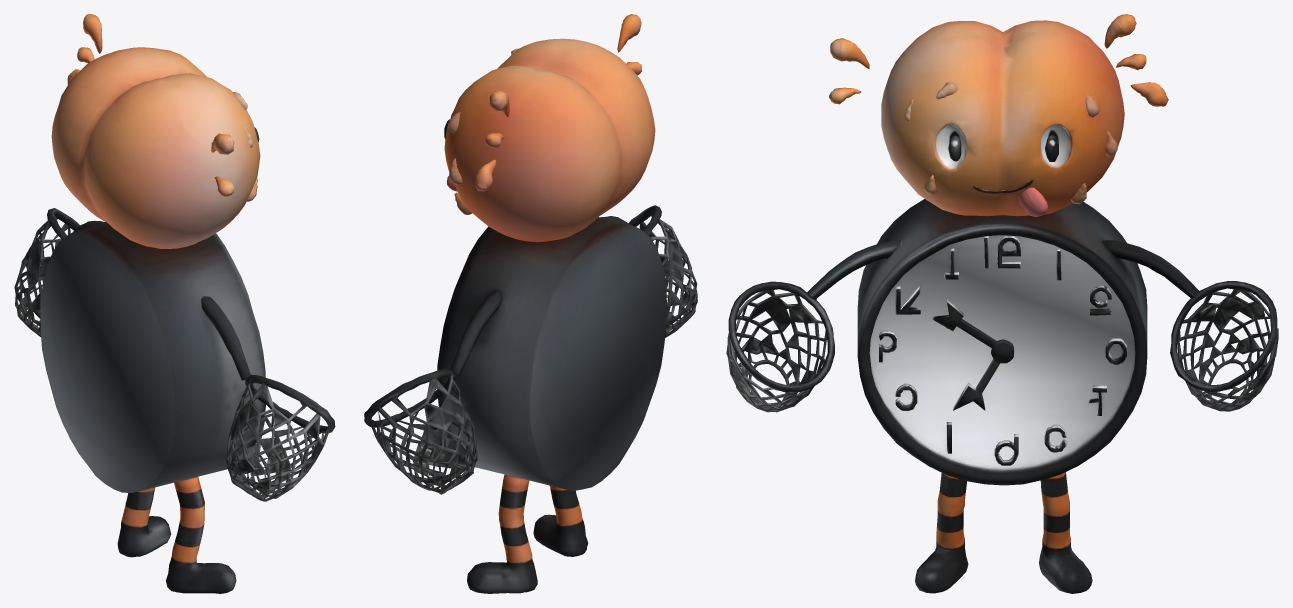
File: peche-heure.glb
3 views of the same model, side by side, from view 1: azimuth 30°, elevation 25°; view 2: azimuth 150°, elevation 25°; view 3: azimuth 270°, elevation 25° (orthographic). The views are drawn at different scales.
Parts seen in each view (by area): view 1: tripo_node_a66bb490-686e-41db-8903-fe46ea5738ea; view 2: tripo_node_a66bb490-686e-41db-8903-fe46ea5738ea; view 3: tripo_node_a66bb490-686e-41db-8903-fe46ea5738ea.
Part boxes in pixels (left/top/right/bottom): tripo_node_a66bb490-686e-41db-8903-fe46ea5738ea: left=14, top=14, right=335, bottom=593; tripo_node_a66bb490-686e-41db-8903-fe46ea5738ea: left=364, top=14, right=697, bottom=593; tripo_node_a66bb490-686e-41db-8903-fe46ea5738ea: left=726, top=14, right=1278, bottom=593.
Bounding box in the file's own units: 0.0969 × 0.3 × 0.2718.
1 material, 1 textured.
